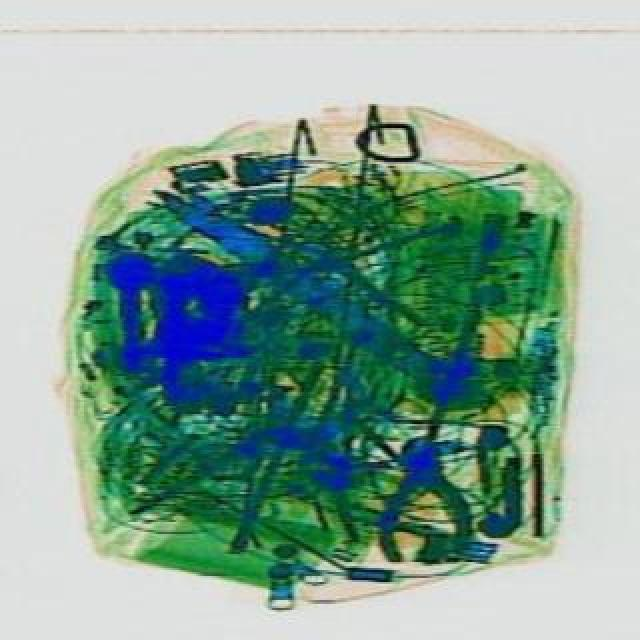wrench: (256, 196, 462, 330), (372, 432, 468, 560)
